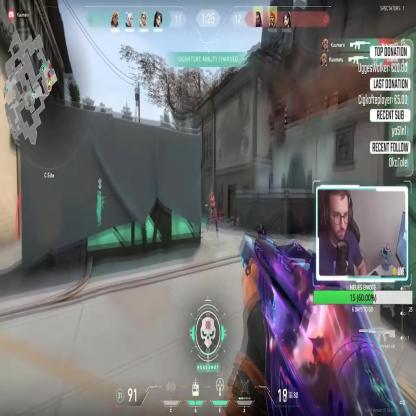enemy: (206, 190, 220, 232)
enemy_head: (210, 190, 214, 198)
